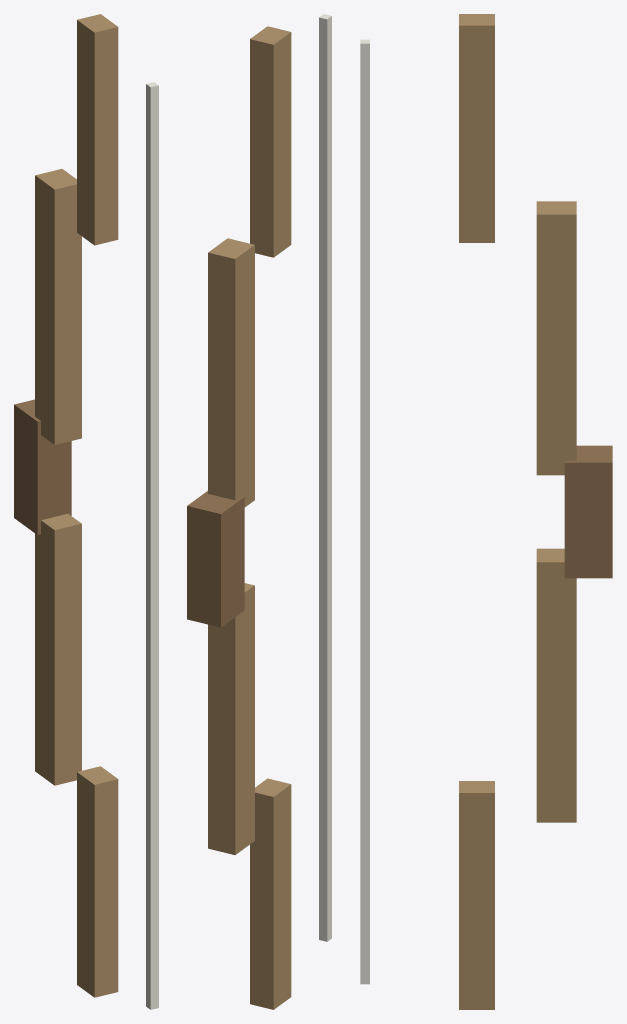
The model's file is bow.glb.
3 views of the same model, side by side, from view 1: azimuth 30°, elevation 25°; view 2: azimuth 150°, elevation 25°; view 3: azimuth 270°, elevation 25° (orthographic).
Visible parts, largest first — view 1: Bow; view 2: Bow; view 3: Bow.
Part boxes in pixels (x1,y1,x2,y2): Bow: [14, 14, 158, 1009]; Bow: [187, 14, 331, 1009]; Bow: [360, 14, 612, 1009].
Size of the model in its own units: 0.05 by 1.36 by 0.316.
